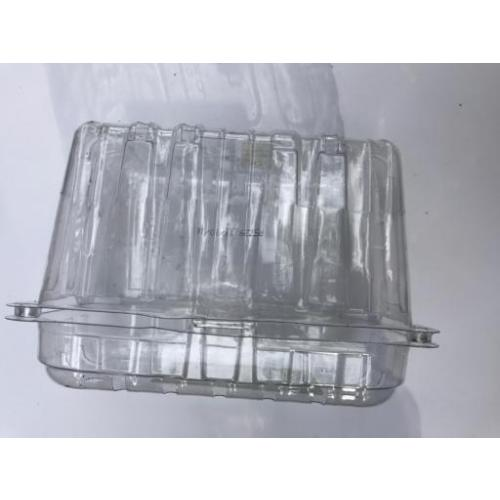plastic: (53, 124, 406, 401)
